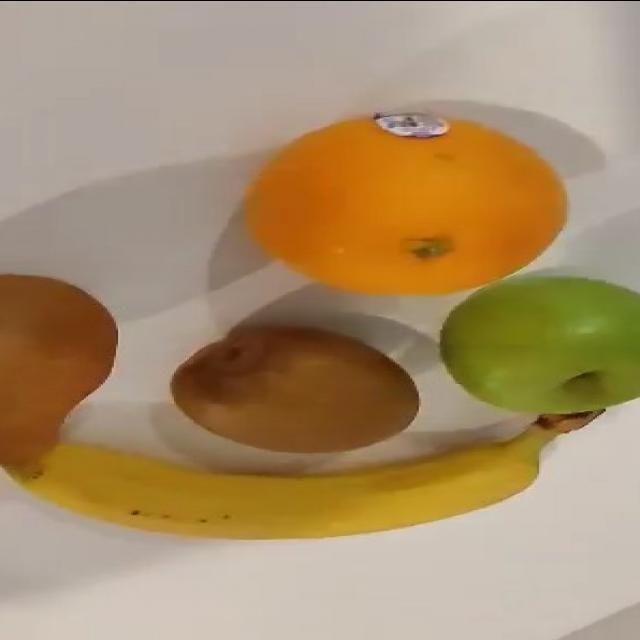Apple: (441, 275, 640, 417)
Banana: (0, 423, 588, 545)
Orange: (243, 113, 569, 297)
